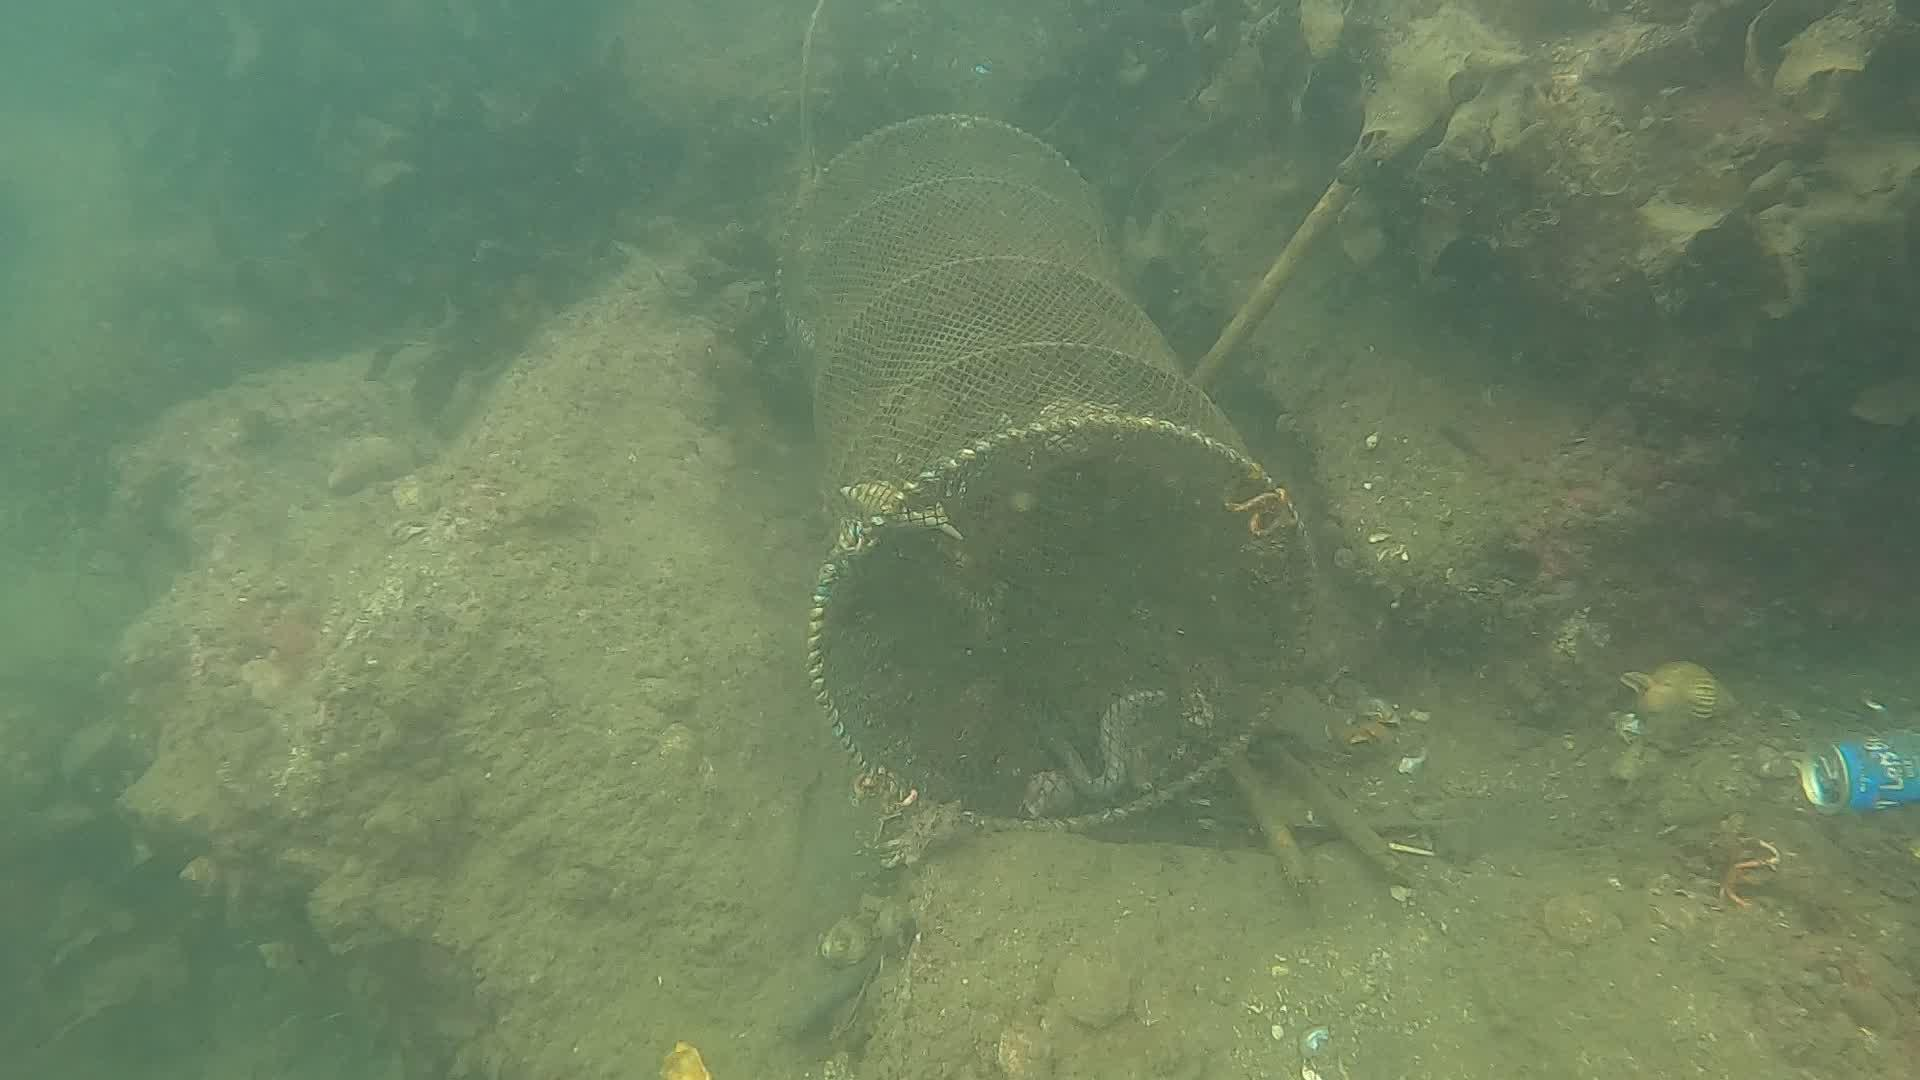spring fish trap: (775, 107, 1324, 832)
